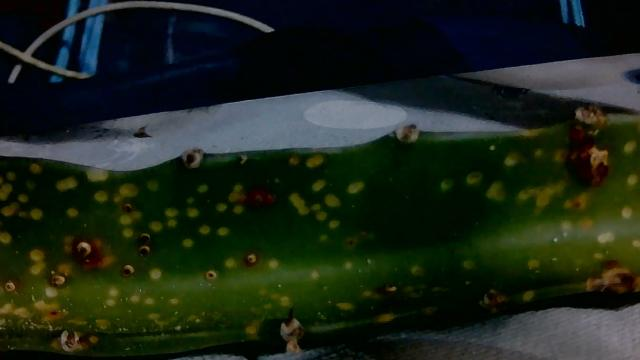stemcanker: (1, 111, 640, 353)
